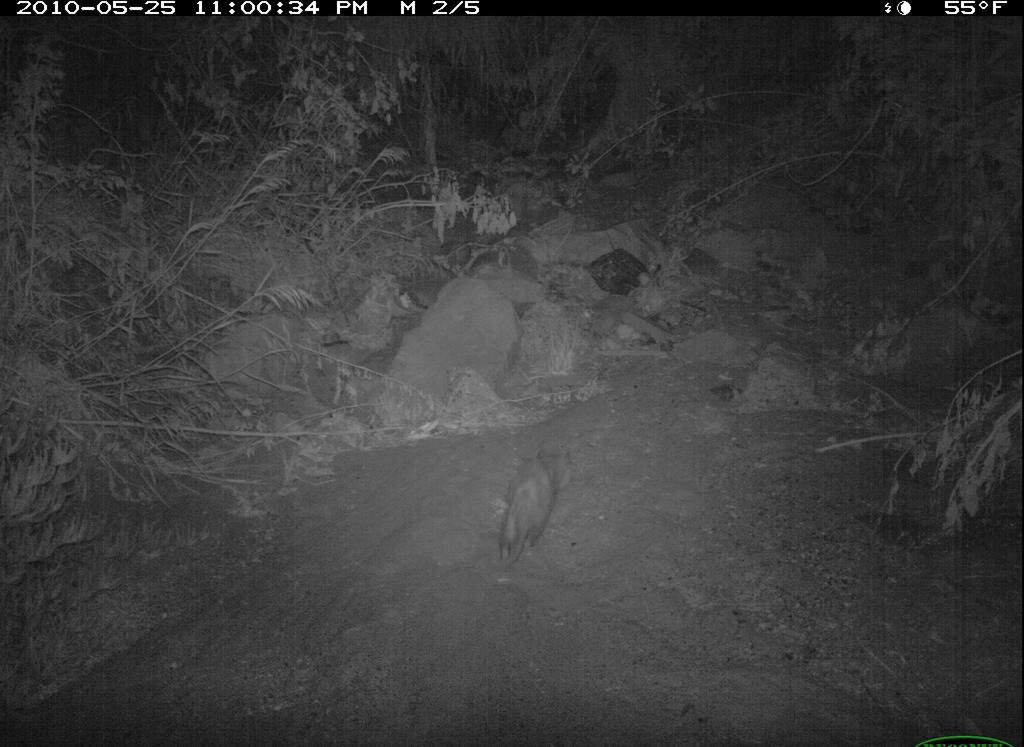opossum: (485, 441, 576, 573)
